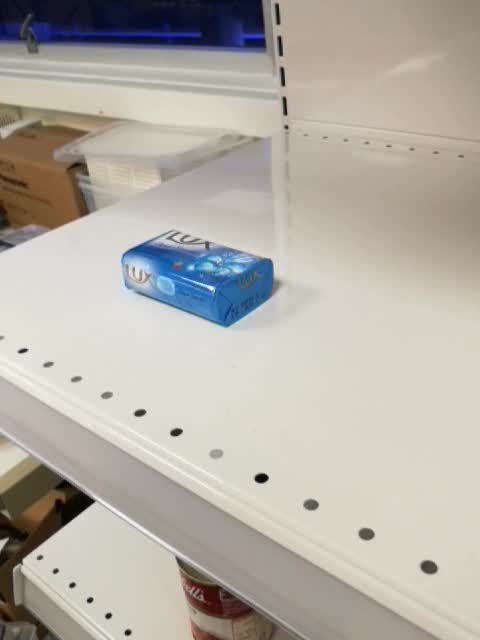soap: (122, 228, 274, 327)
